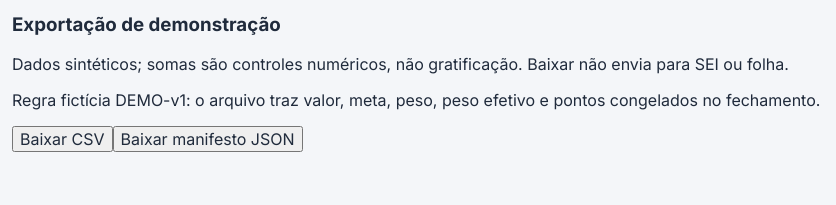
CAM export for a model-3 group › downloads the contract-2 CSV with the frozen points and the contract-2 manifest
The image size is (836, 205).
Later steps or results of the test are not shown.
Click the button "Baixar CSV" at (62, 139), box [12,126,113,152]
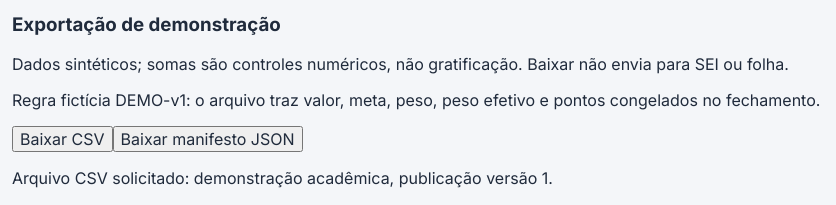
Now the text "Arquivo CSV solicitado: demonstração acadêmica, publicação versão 1." is shown, box [12,168,553,188]
